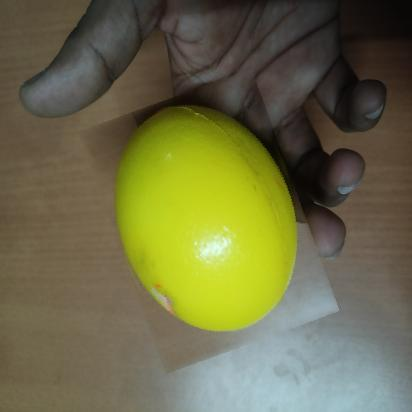Yellowball: (97, 80, 320, 362)
